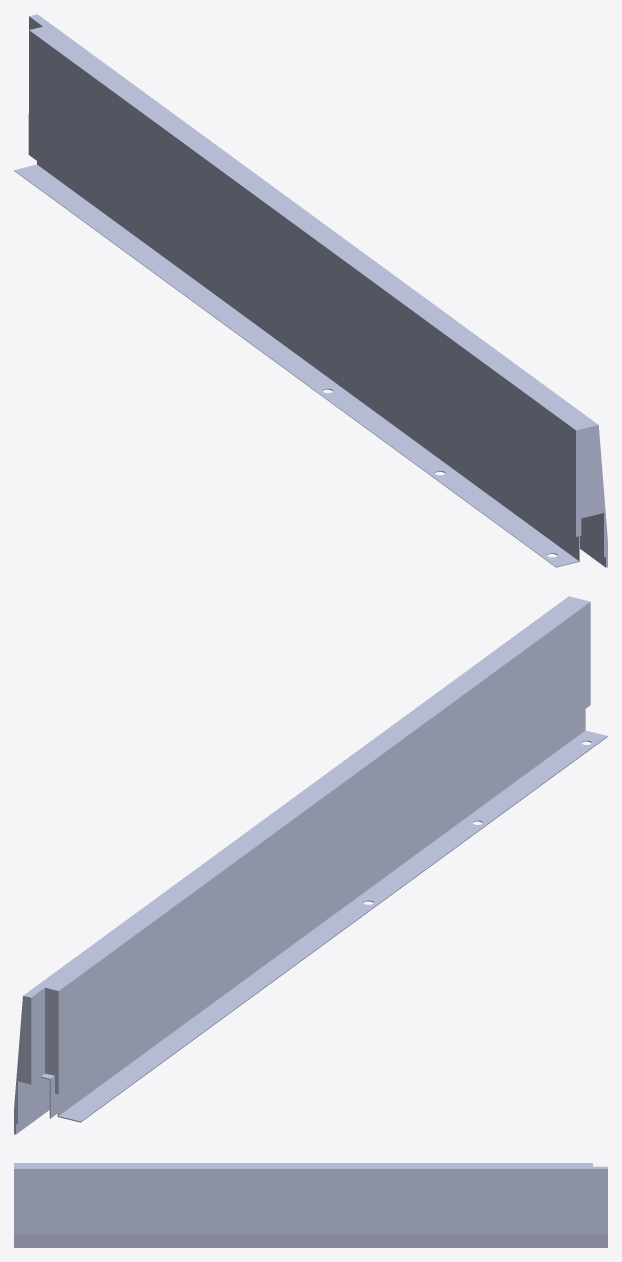
Rendered from mv-kava-M650-m.glb.
3 renders of one model, top to bottom at view 1: azimuth 30°, elevation 25°; view 2: azimuth 150°, elevation 25°; view 3: azimuth 270°, elevation 25°, orthographic. The views are drawn at different scales.
Parts seen in each view (by area): view 1: 45061435; view 2: 45061435; view 3: 45061435.
Boxes of the visible parts, x1,y1,x2,y2 form: 45061435: [14, 14, 607, 567]; 45061435: [14, 596, 607, 1134]; 45061435: [14, 1163, 607, 1247].
Bounding box in the file's own units: 0.0335 × 0.091 × 0.6402.
